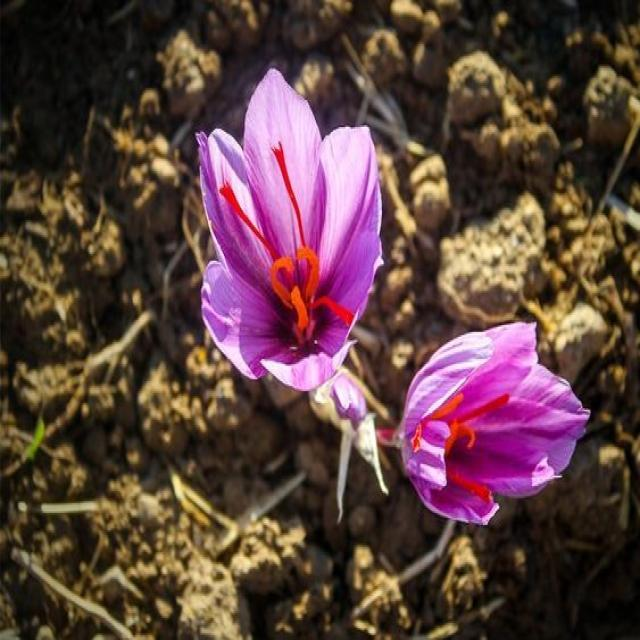Flower: (198, 69, 382, 390), (398, 322, 588, 524)
stigma: (215, 165, 353, 356), (429, 375, 516, 512), (270, 110, 323, 262)
